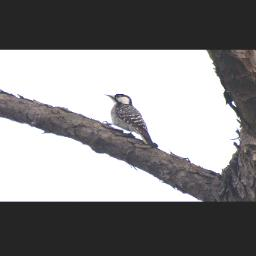Woodpecker: (99, 90, 162, 151)
